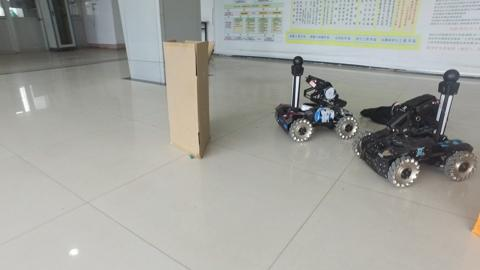box: (161, 38, 209, 158)
chariot: (354, 67, 478, 188), (278, 56, 356, 143)
